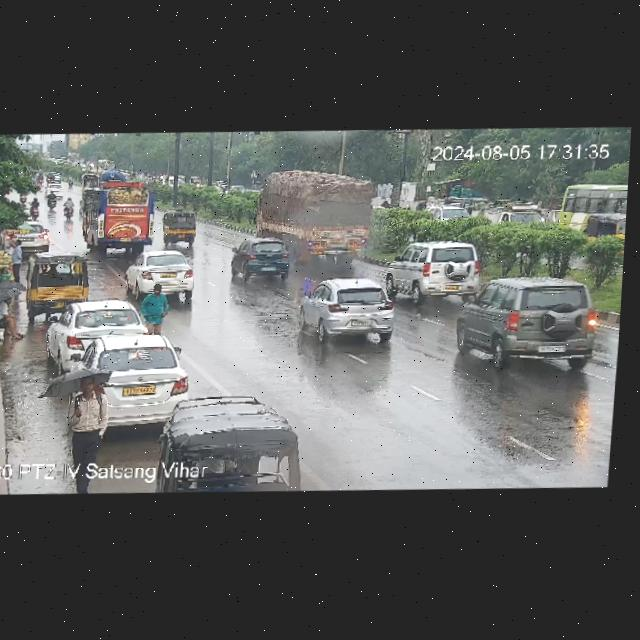bus: (79, 183, 158, 250), (560, 180, 628, 250), (97, 159, 116, 171)
car: (450, 275, 605, 376), (158, 393, 307, 494), (68, 333, 190, 438), (381, 239, 486, 306), (305, 276, 404, 346), (46, 298, 149, 358), (22, 253, 93, 316), (127, 247, 201, 295), (228, 236, 294, 280), (5, 218, 50, 249), (165, 209, 202, 243), (422, 202, 470, 222), (45, 182, 65, 197)
motorcycle: (64, 198, 75, 219), (29, 198, 40, 219), (46, 191, 56, 210), (67, 174, 76, 189), (19, 190, 27, 202)
person: (60, 367, 112, 477), (138, 285, 172, 339), (0, 291, 26, 340), (9, 239, 24, 281)
truck: (248, 164, 384, 276), (82, 173, 100, 189)
